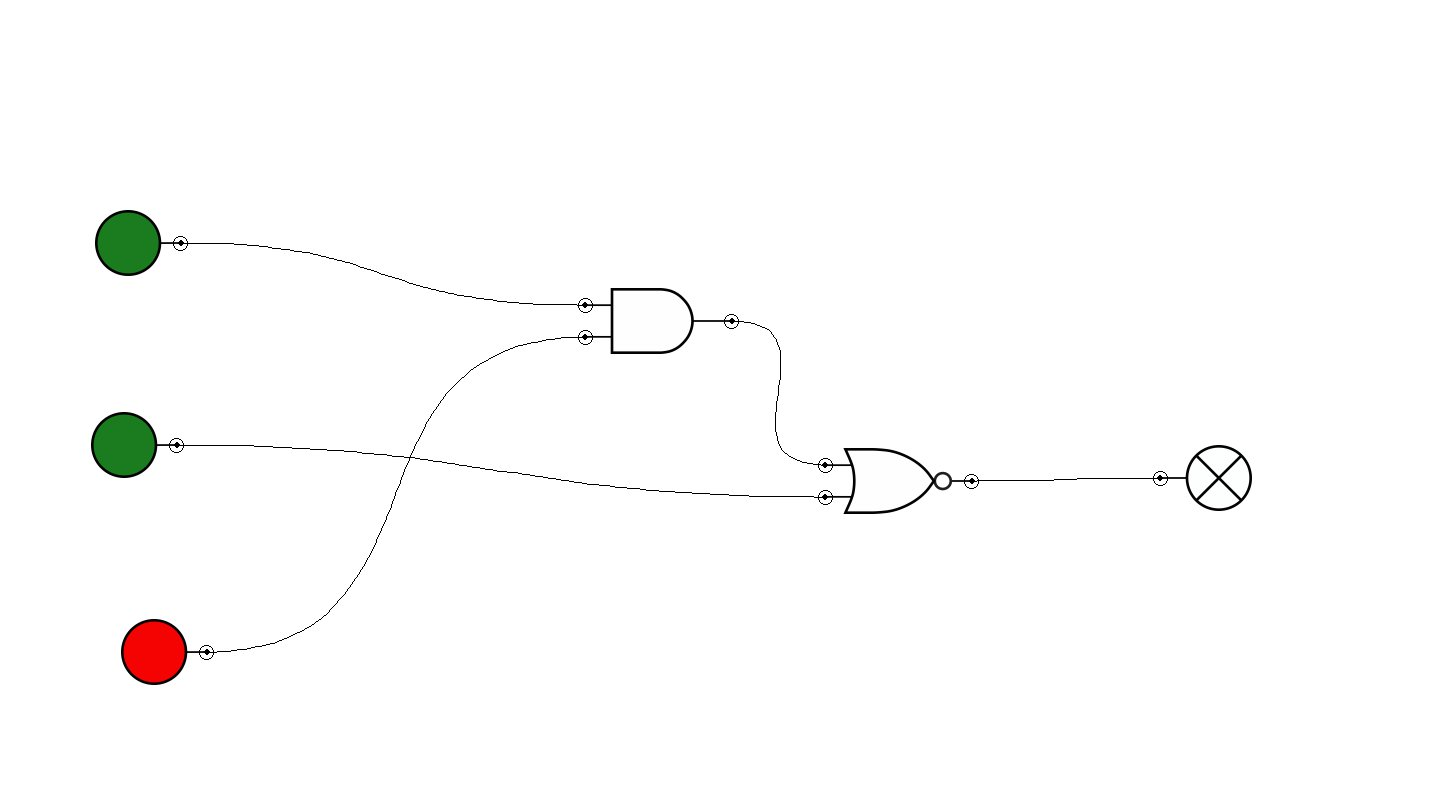and: (578, 288, 739, 354)
bulb: (1153, 445, 1252, 511)
nor: (818, 448, 979, 514)
switch_False: (121, 619, 214, 685)
switch_True: (95, 210, 188, 276), (91, 412, 184, 478)
